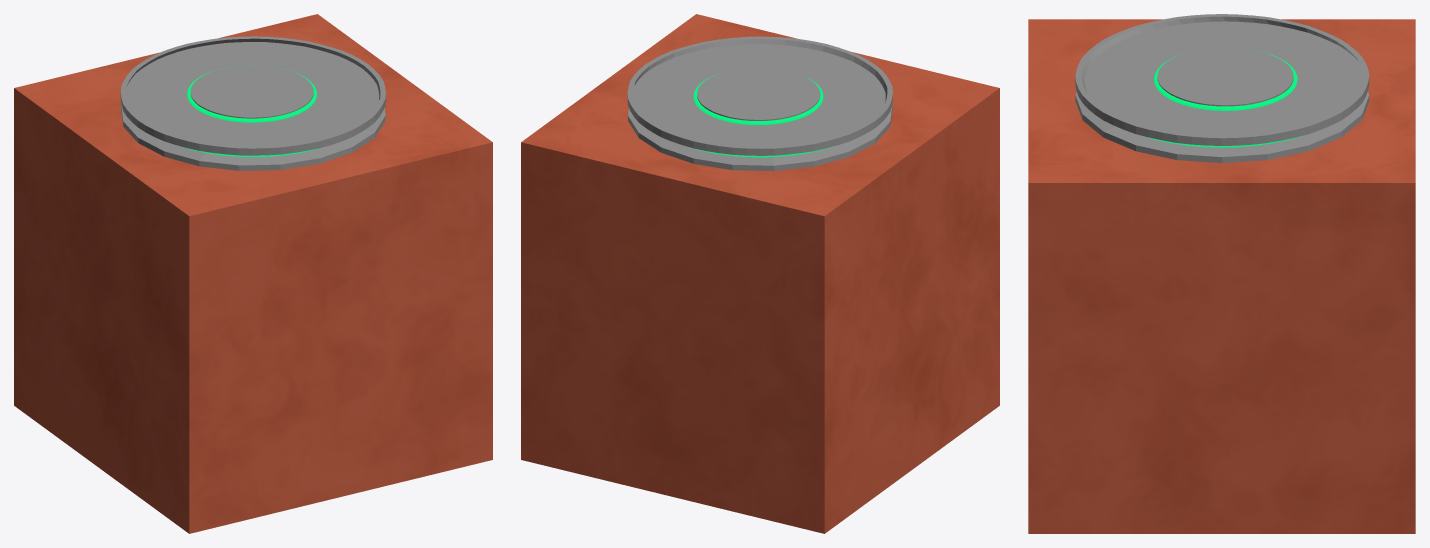
File: Spawn Marciano.glb
The picture shows the model from 3 angles, left to right: view 1: azimuth 30°, elevation 25°; view 2: azimuth 150°, elevation 25°; view 3: azimuth 270°, elevation 25°; orthographic projection. The views are drawn at different scales.
Parts seen in each view (by area): view 1: Cube, Circle, Torus.001; view 2: Cube, Circle, Torus.001; view 3: Cube, Circle, Torus.001.
Boxes of the visible parts, x1=… form: Cube: x1=14, y1=14, x2=492, y2=533; Circle: x1=120, y1=36, x2=385, y2=170; Torus.001: x1=187, y1=65, x2=316, y2=122; Cube: x1=521, y1=14, x2=999, y2=533; Circle: x1=627, y1=36, x2=892, y2=171; Torus.001: x1=693, y1=73, x2=823, y2=125; Cube: x1=1028, y1=19, x2=1415, y2=533; Circle: x1=1075, y1=14, x2=1369, y2=163; Torus.001: x1=1154, y1=49, x2=1297, y2=110.
Size of the model in its own units: 2 by 2.14 by 2.
Materials: 3 (1 with a texture image).
